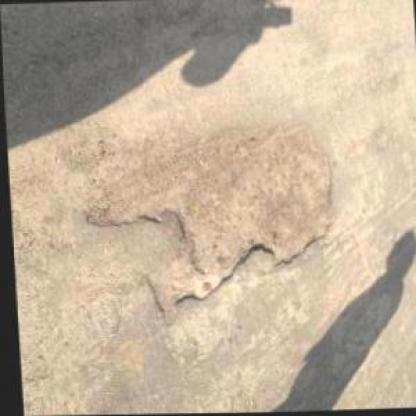pothole: (75, 119, 342, 329)
